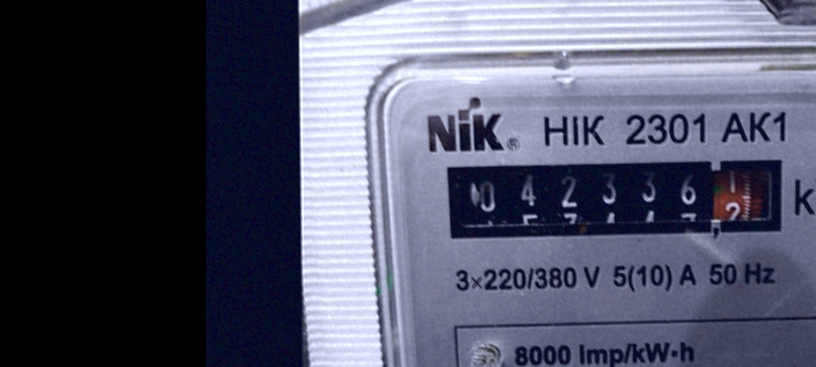0: (478, 181, 499, 216)
1: (726, 169, 739, 198)
2: (559, 176, 580, 212), (724, 203, 743, 224)
3: (600, 171, 620, 209), (638, 171, 659, 207)
4: (519, 173, 539, 210)
6: (677, 173, 700, 208)
screen: (440, 152, 793, 249)
